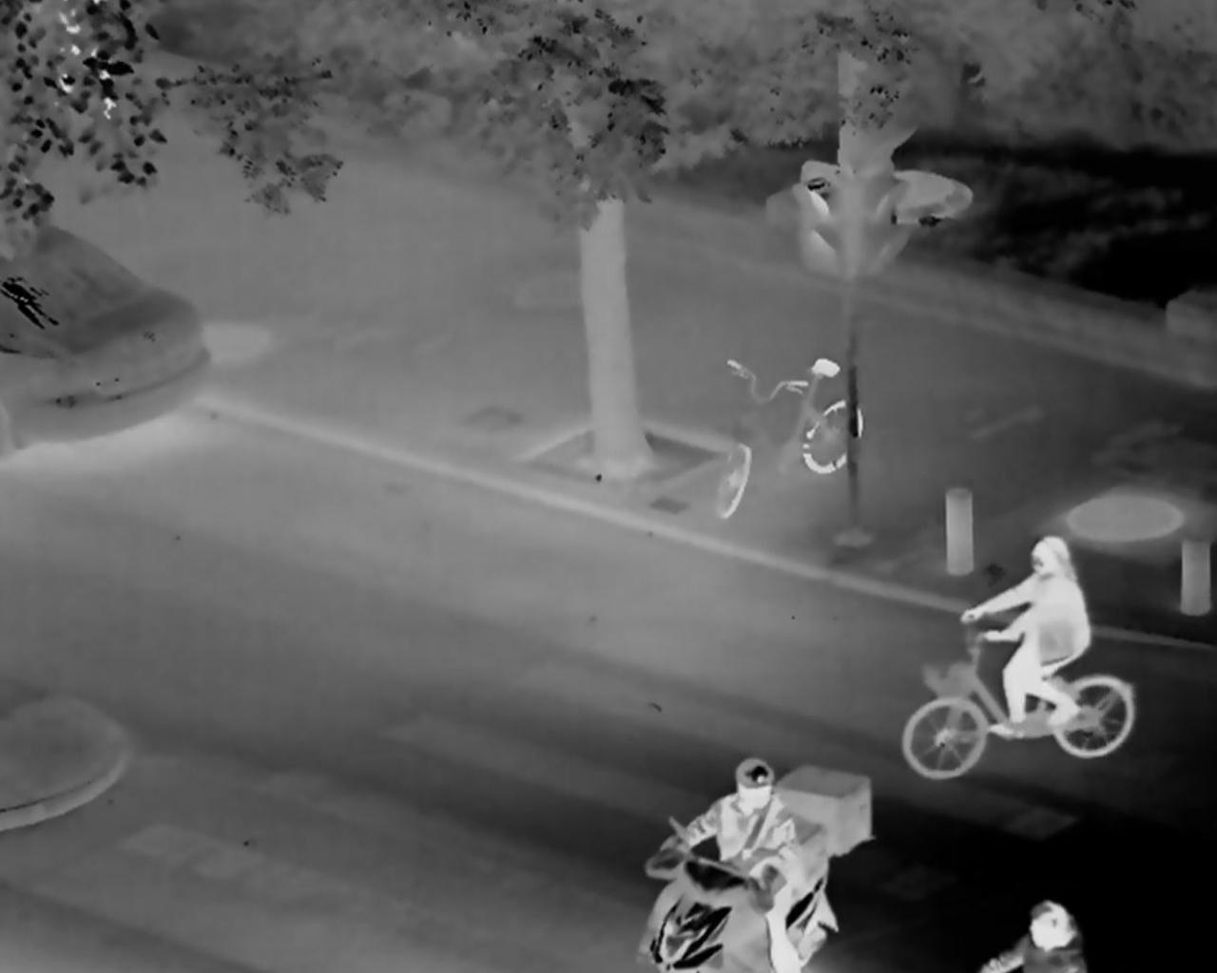person: (660, 754, 805, 973), (964, 536, 1093, 735), (972, 898, 1089, 973)
